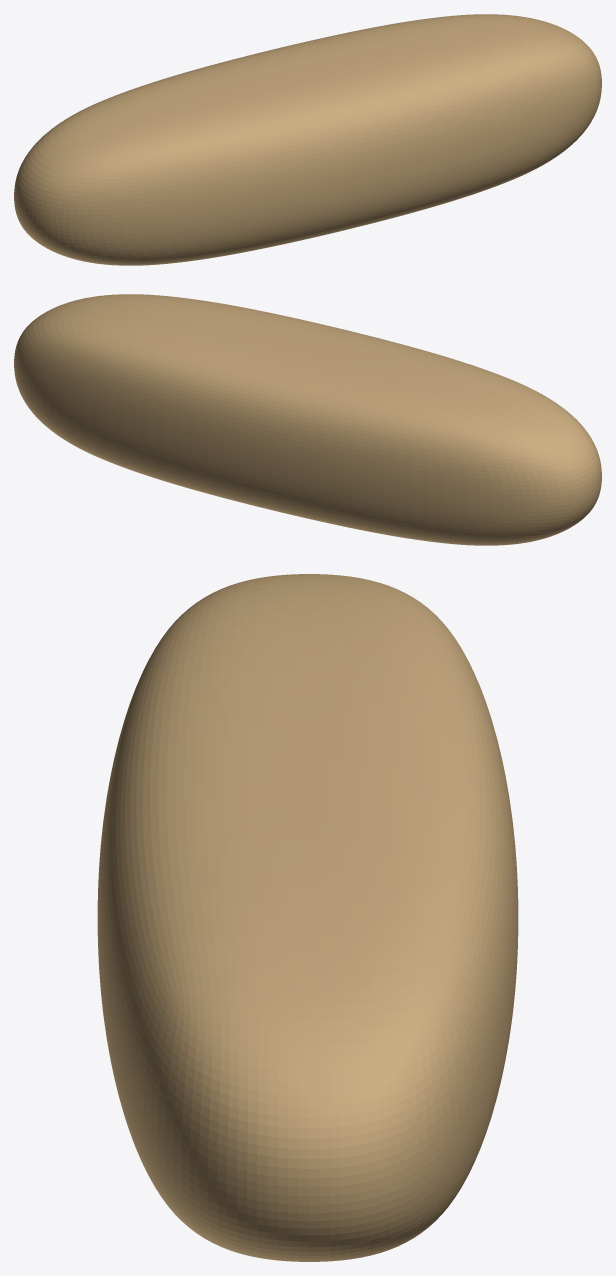
File: pan.fbx
3 renders of one model, top to bottom at view 1: azimuth 30°, elevation 25°; view 2: azimuth 150°, elevation 25°; view 3: azimuth 270°, elevation 25°, orthographic. The views are drawn at different scales.
Parts seen in each view (by area): view 1: Cube; view 2: Cube; view 3: Cube.
Part boxes in pixels (left/top/right/bottom): Cube: left=14, top=14, right=601, bottom=265; Cube: left=14, top=294, right=601, bottom=545; Cube: left=97, top=574, right=518, bottom=1261.
Bounding box in the file's own units: 851 × 200 × 272.
